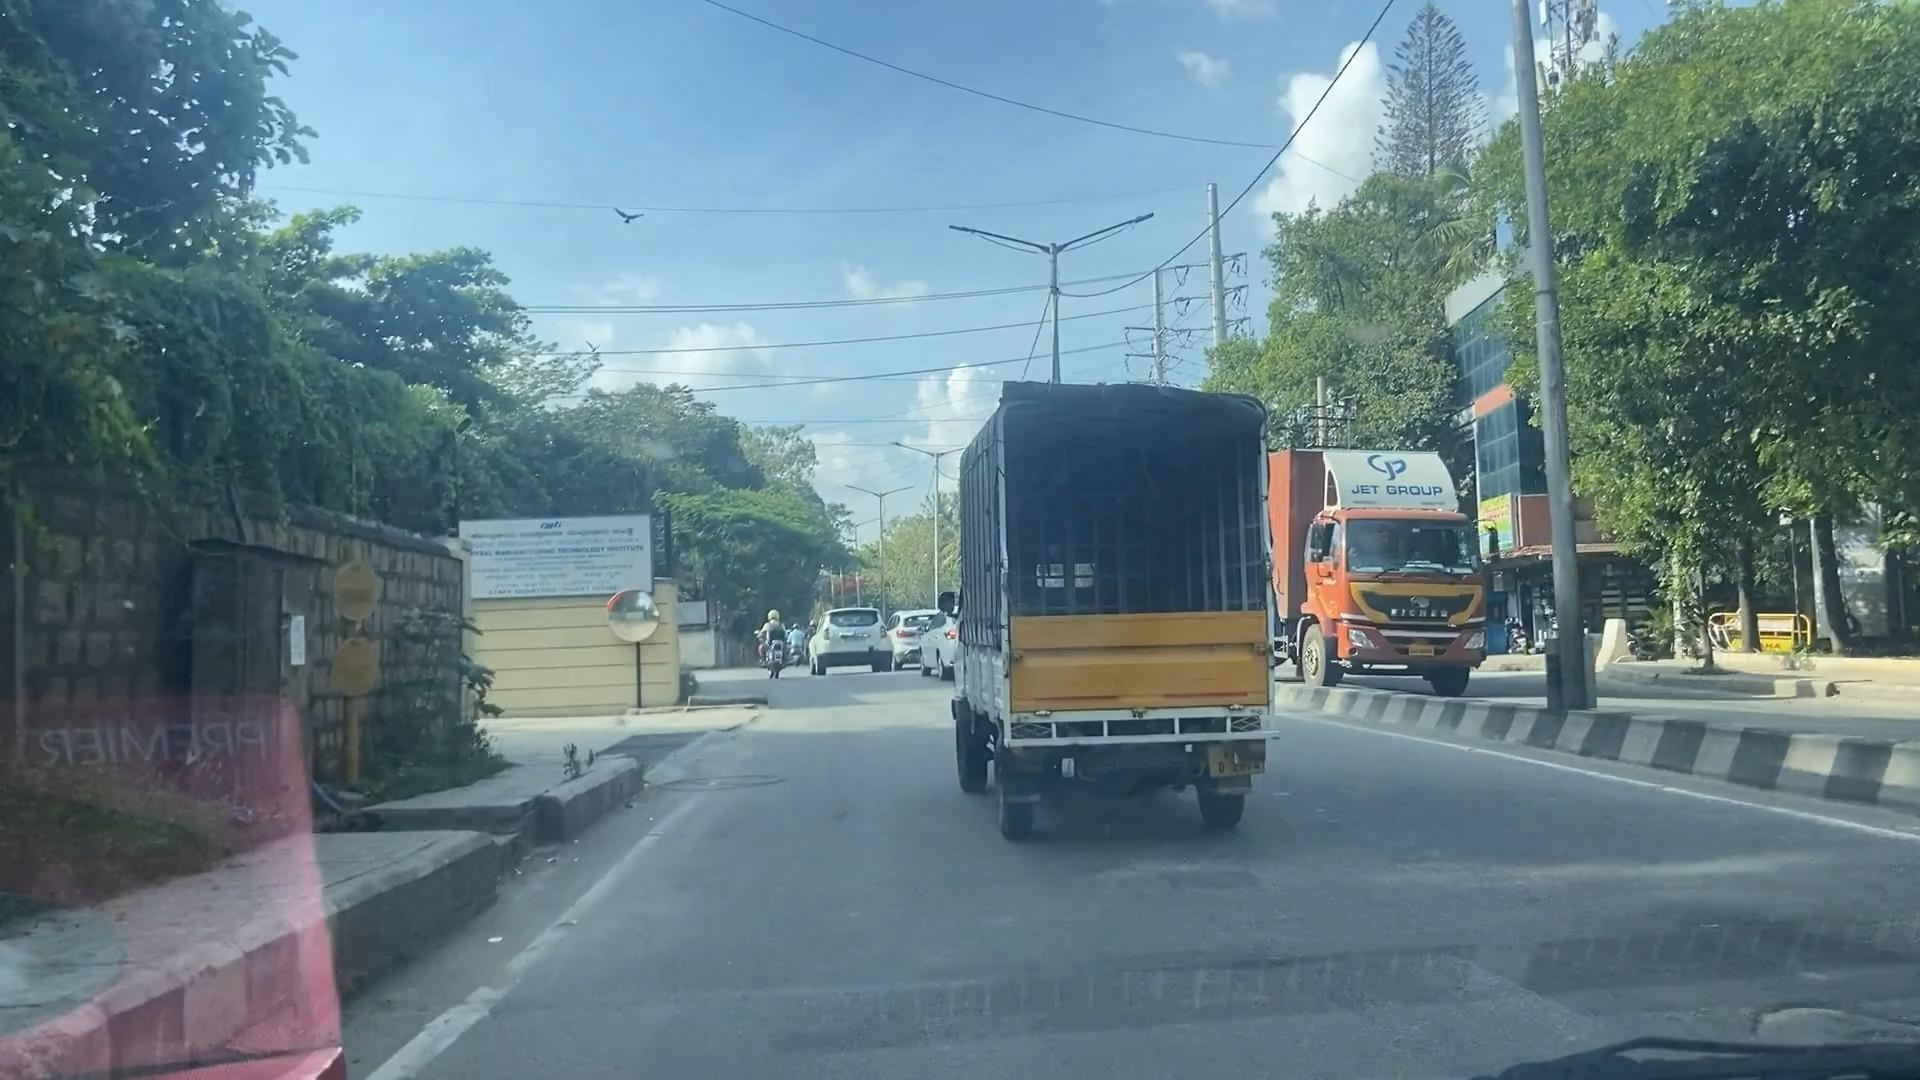HMV: (922, 364, 1286, 880), (1269, 438, 1499, 712)
RoadDamages: (1681, 918, 1920, 1062), (646, 757, 807, 810)
